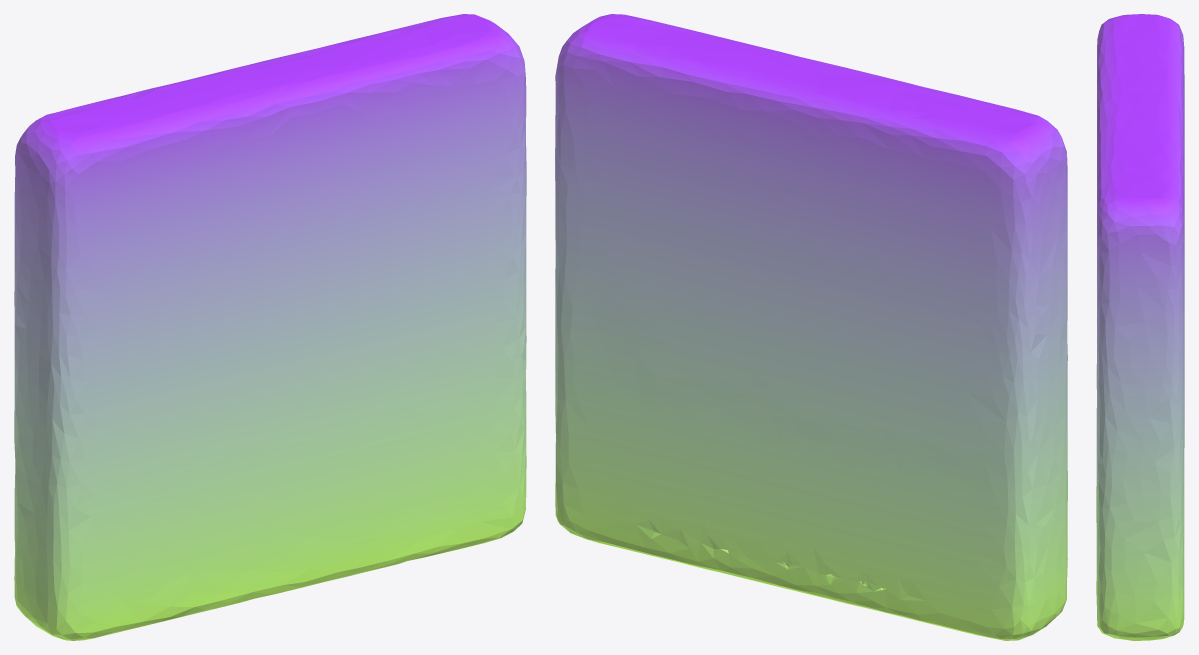
File: 75_cyb_laser_gradient_fish_scales_2996_2026_10_03_235087.glb
The picture shows the model from 3 angles, left to right: view 1: azimuth 30°, elevation 25°; view 2: azimuth 150°, elevation 25°; view 3: azimuth 270°, elevation 25°; orthographic projection. The views are drawn at different scales.
Parts seen in each view (by area): view 1: geometry_0; view 2: geometry_0; view 3: geometry_0.
Part boxes in pixels (left/top/right/bottom): geometry_0: left=14, top=14, right=526, bottom=640; geometry_0: left=555, top=14, right=1067, bottom=640; geometry_0: left=1096, top=14, right=1184, bottom=640.
Size of the model in its own units: 0.9981 by 1 by 0.1817.
